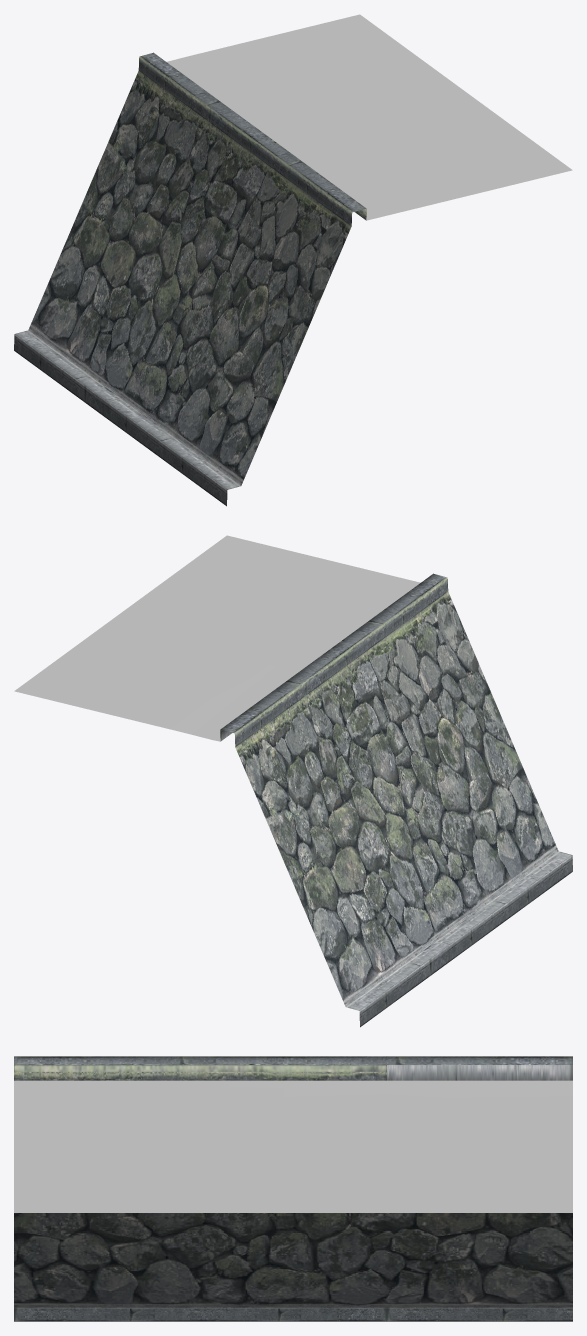
The model's file is WALL Slanted A.fbx.
3 renders of one model, top to bottom at view 1: azimuth 30°, elevation 25°; view 2: azimuth 150°, elevation 25°; view 3: azimuth 270°, elevation 25°, orthographic. The views are drawn at different scales.
Visible parts, largest first — view 1: WALL Slanted A; view 2: WALL Slanted A; view 3: WALL Slanted A.
Part boxes in pixels (<box>): WALL Slanted A: <box>14,14,572,506</box>; WALL Slanted A: <box>14,535,572,1027</box>; WALL Slanted A: <box>14,1056,572,1321</box>.
Size of the model in its own units: 422 by 307 by 450.
